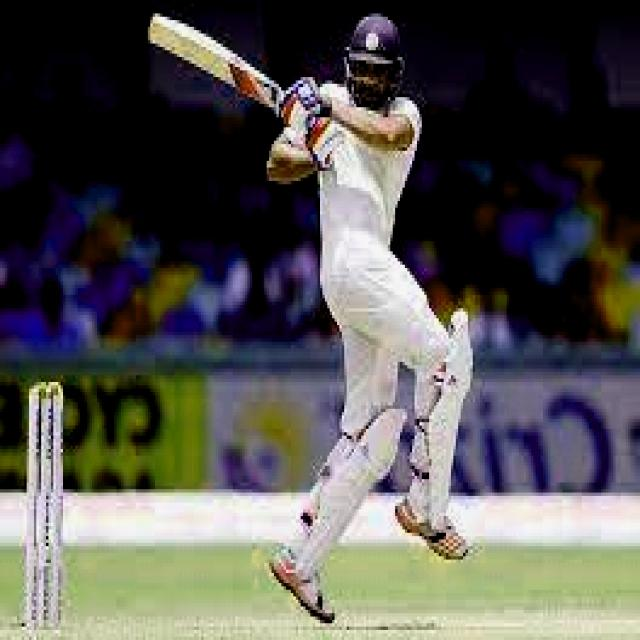toe: (146, 11, 163, 45)
